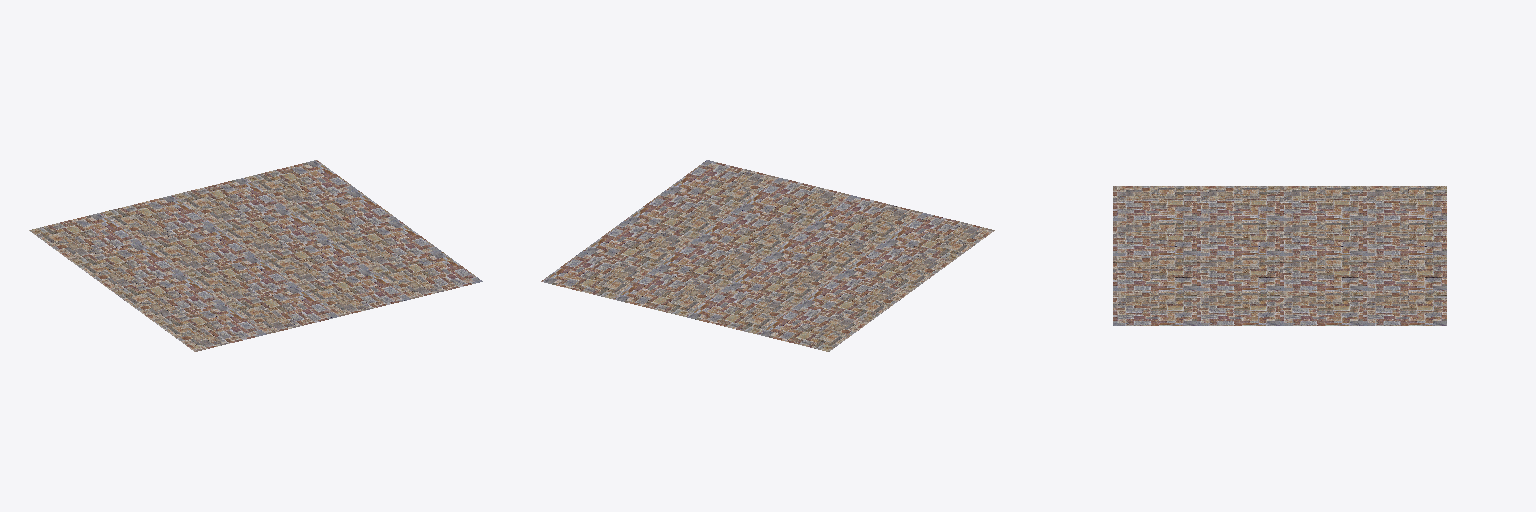
3 renders of one model, left to right at view 1: azimuth 30°, elevation 25°; view 2: azimuth 150°, elevation 25°; view 3: azimuth 270°, elevation 25°, orthographic.
Bounding box in the file's own units: 23.98 × 0 × 23.98.
Materials: 1 (1 with a texture image).